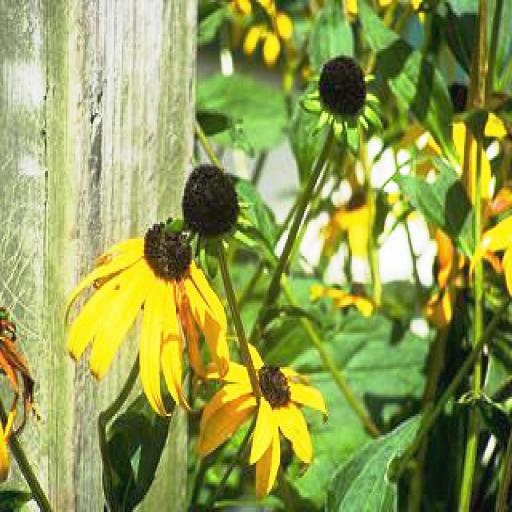sunflower: (66, 224, 230, 412), (198, 339, 328, 493)
